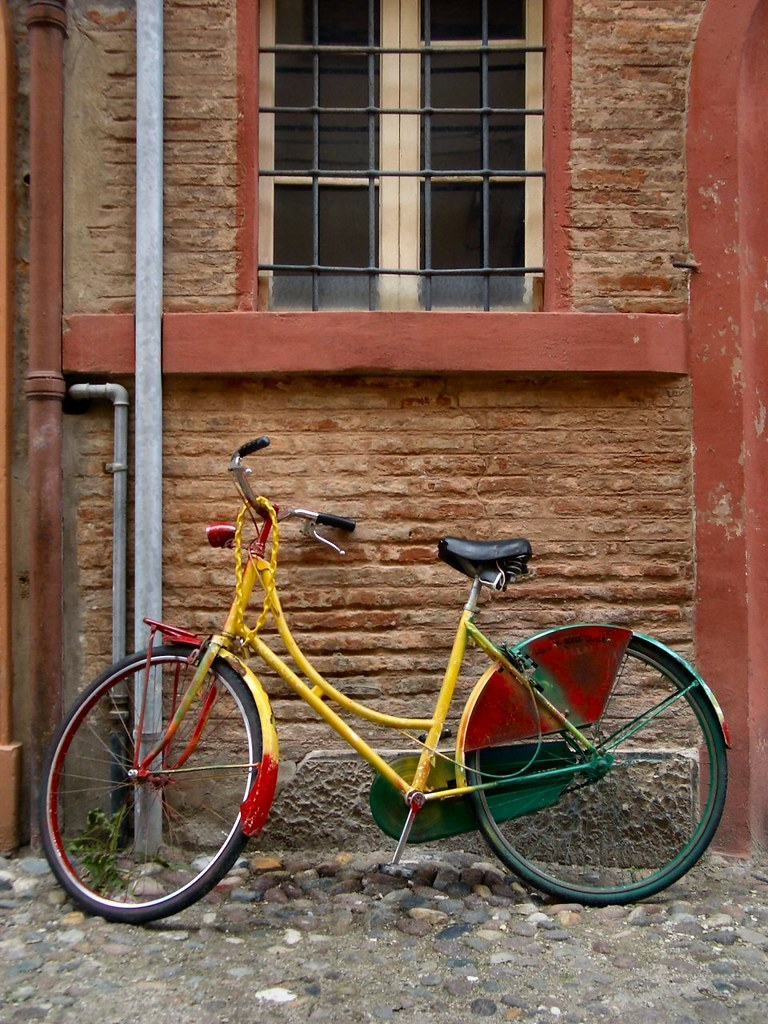bicycle: (35, 443, 734, 944)
